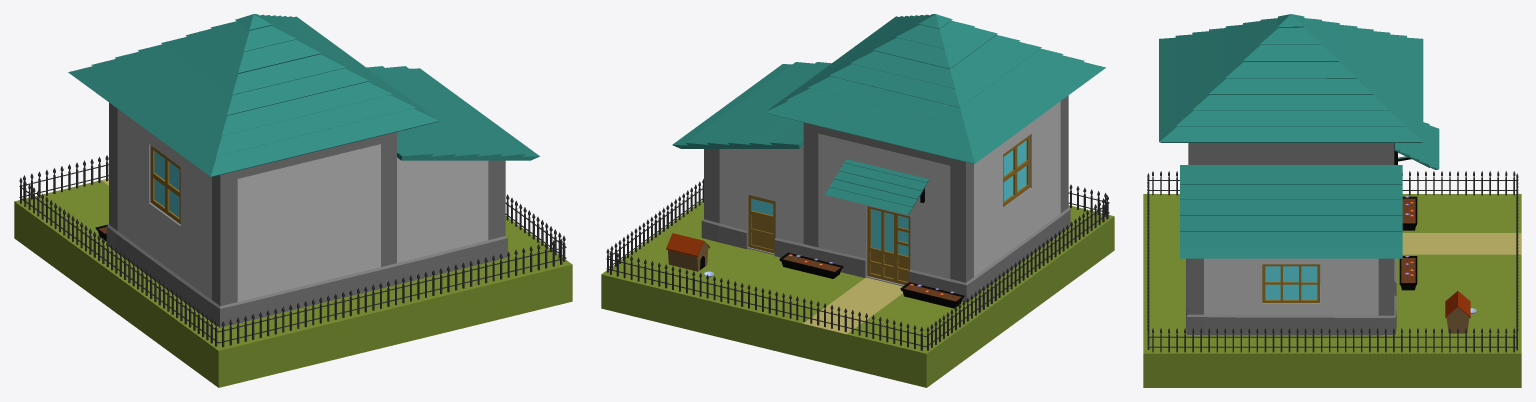
The model's file is House2_1.fbx.
3 views of the same model, side by side, from view 1: azimuth 30°, elevation 25°; view 2: azimuth 150°, elevation 25°; view 3: azimuth 270°, elevation 25° (orthographic). The views are drawn at different scales.
Visible parts, largest first — view 1: Walls, Roof1, Ground, Fence.001, Roof2, Window1; view 2: Walls, Ground, Roof1, Fence.001, Roof2, Porch, Door1, Flowers, Window1, Door2, Doghouse; view 3: Ground, Roof1, Roof2, Walls, Fence.001, Window2, Porch, Flowers, Doghouse.
Boxes of the visible parts, x1,y1,x2,y2 form: Walls: [106, 102, 507, 327]; Roof1: [68, 14, 438, 177]; Ground: [14, 178, 572, 387]; Fence.001: [19, 155, 566, 347]; Roof2: [366, 66, 539, 160]; Window1: [150, 145, 180, 223]; Walls: [701, 95, 1070, 302]; Ground: [601, 200, 1114, 387]; Roof1: [765, 14, 1105, 163]; Fence.001: [606, 178, 1109, 350]; Roof2: [672, 62, 831, 148]; Porch: [824, 159, 929, 214]; Door1: [867, 206, 910, 284]; Flowers: [779, 252, 964, 308]; Window1: [1003, 135, 1030, 206]; Door2: [748, 195, 775, 253]; Doghouse: [666, 233, 713, 277]; Ground: [1143, 194, 1521, 387]; Roof1: [1159, 14, 1423, 142]; Roof2: [1180, 165, 1402, 258]; Walls: [1186, 143, 1396, 335]; Fence.001: [1147, 171, 1518, 352]; Window2: [1262, 264, 1319, 302]; Porch: [1394, 122, 1439, 169]; Flowers: [1399, 196, 1417, 290]; Doghouse: [1445, 291, 1476, 333].
Bounding box in the file's own units: 10 × 7.76 × 10.
